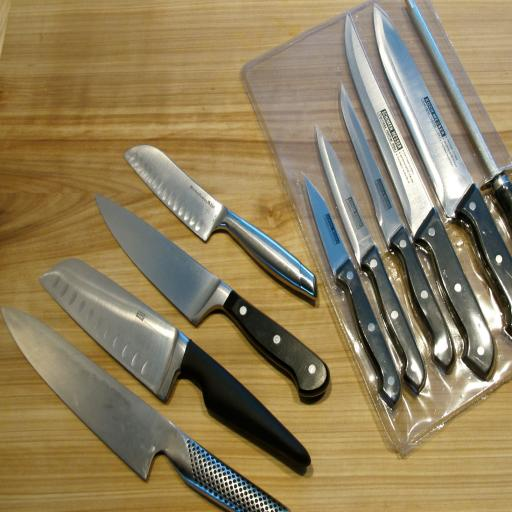knife: (79, 182, 335, 419)
